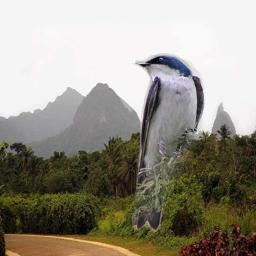Swallow: (129, 53, 206, 232)
